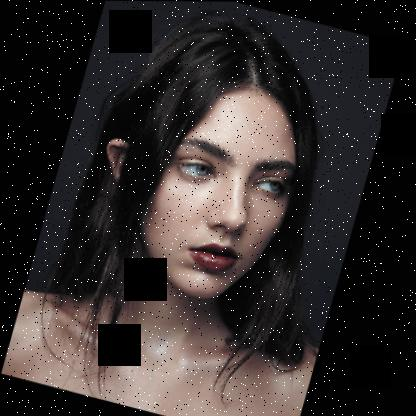Female: (75, 58, 319, 313)
